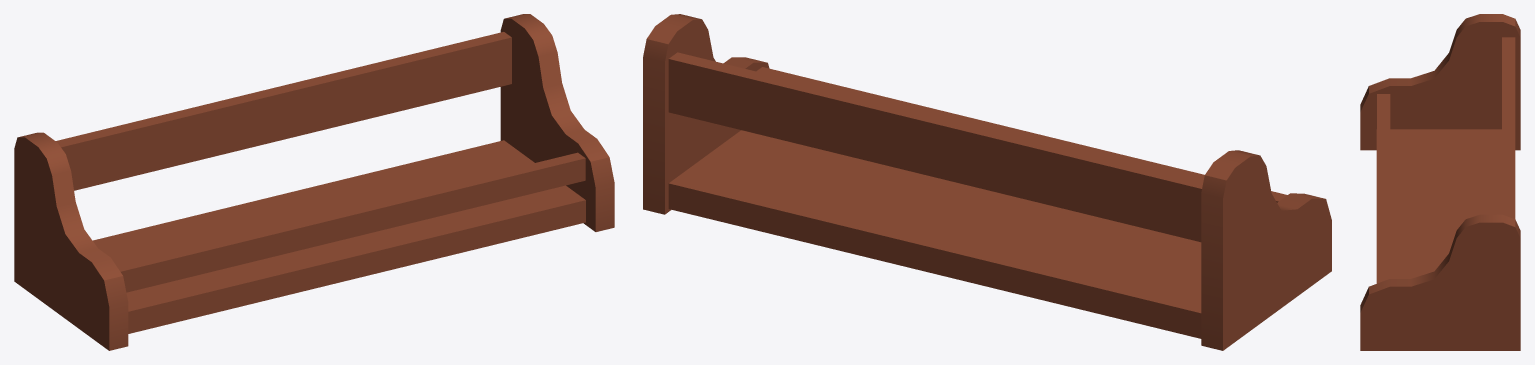
Rendered from SpiceRack_01.fbx.
The picture shows the model from 3 angles, left to right: view 1: azimuth 30°, elevation 25°; view 2: azimuth 150°, elevation 25°; view 3: azimuth 270°, elevation 25°; orthographic projection. The views are drawn at different scales.
Visible parts, largest first — view 1: SpiceRack_01; view 2: SpiceRack_01; view 3: SpiceRack_01.
Part boxes in pixels (box(x1,y1,x2,y2)): SpiceRack_01: box(14, 14, 614, 350); SpiceRack_01: box(643, 14, 1331, 350); SpiceRack_01: box(1360, 14, 1520, 350).
Bounding box in the file's own units: 0.3922 × 0.1127 × 0.1276.
